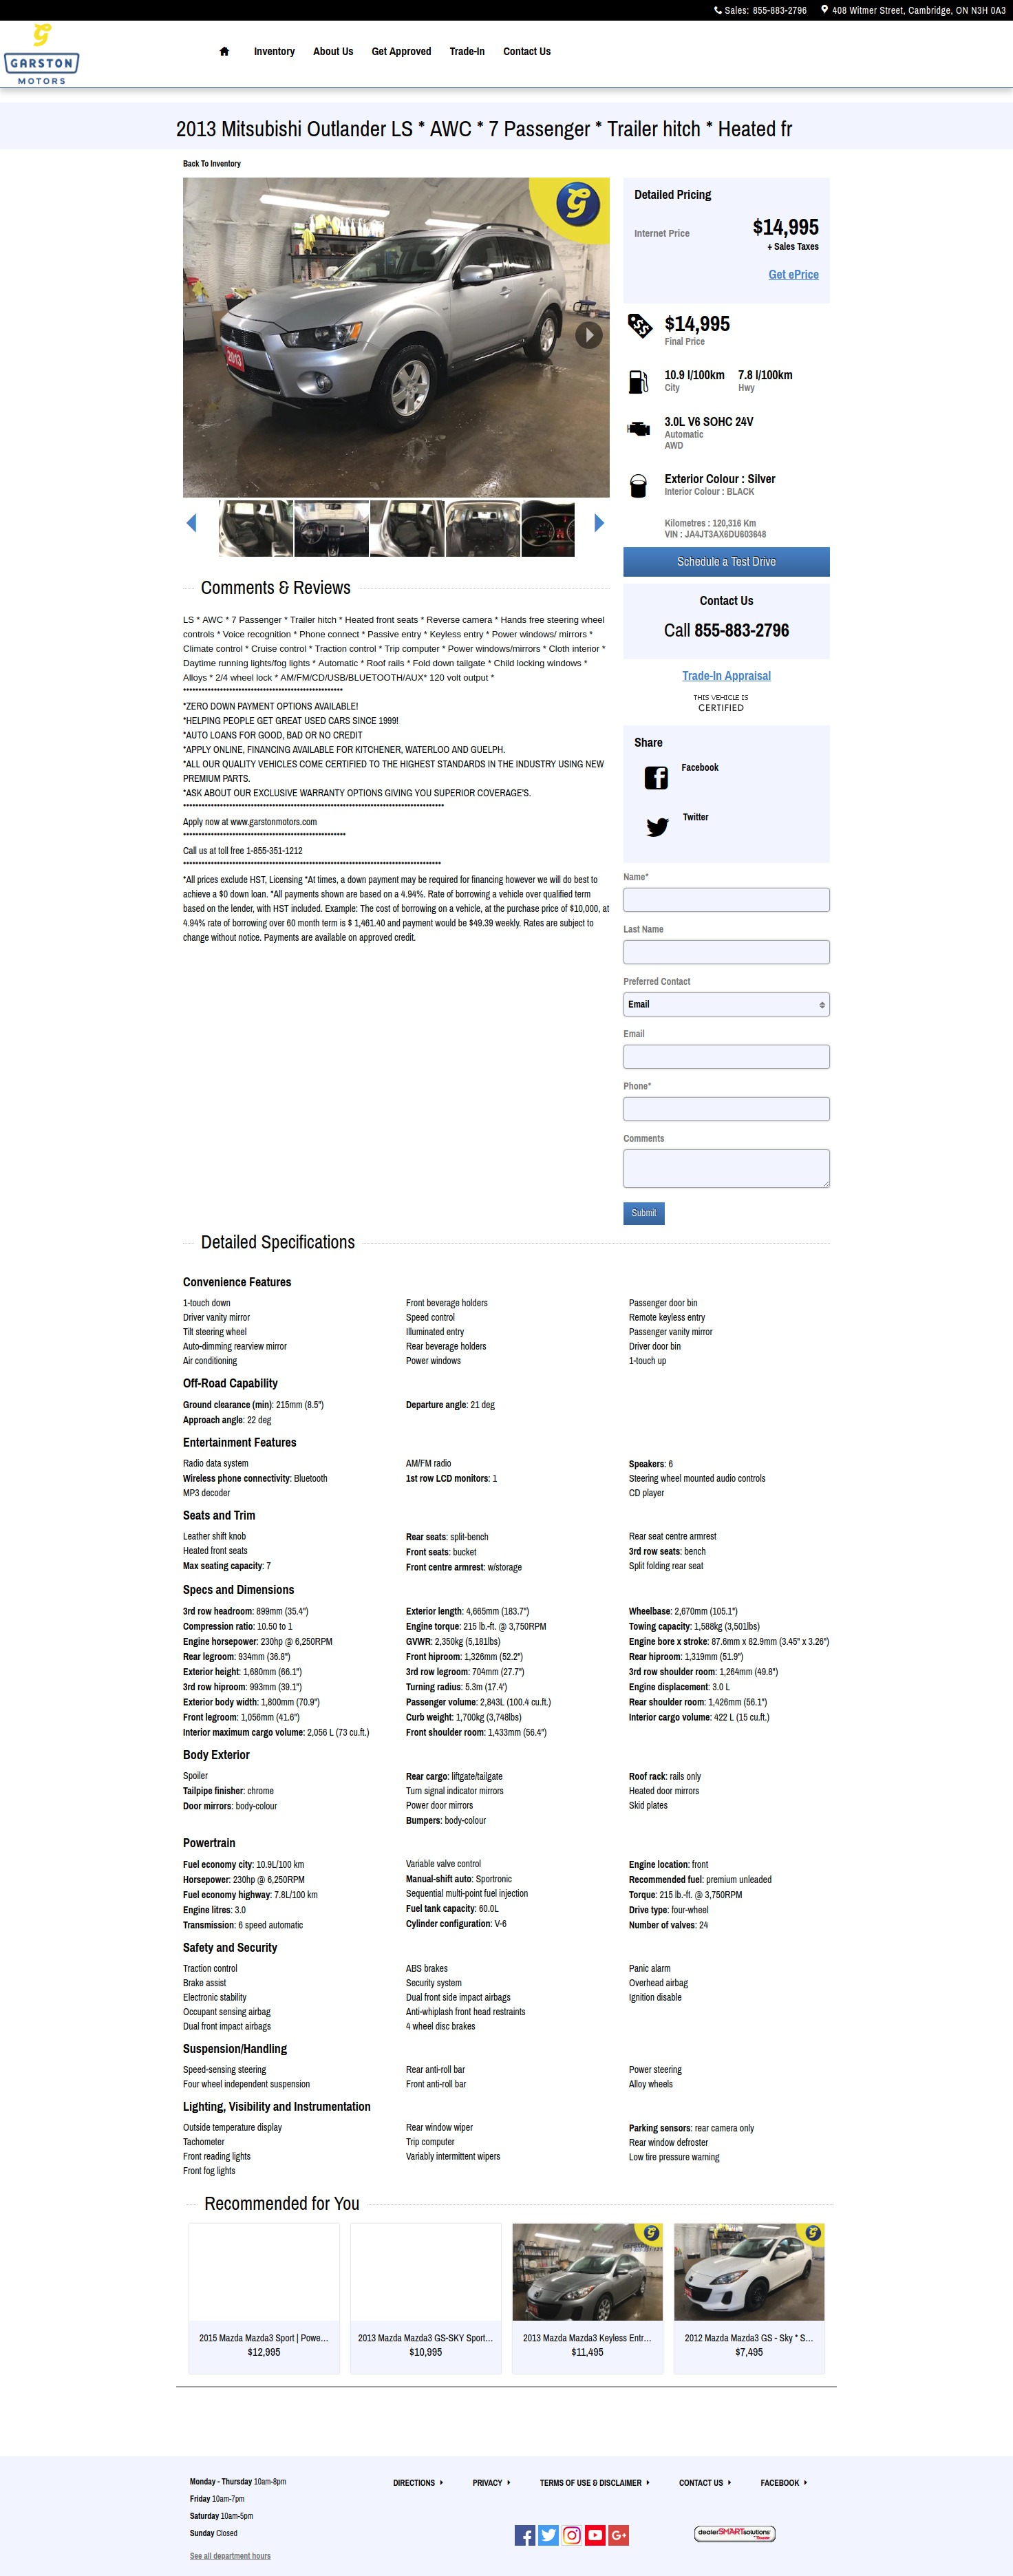car: (594, 514, 606, 534)
